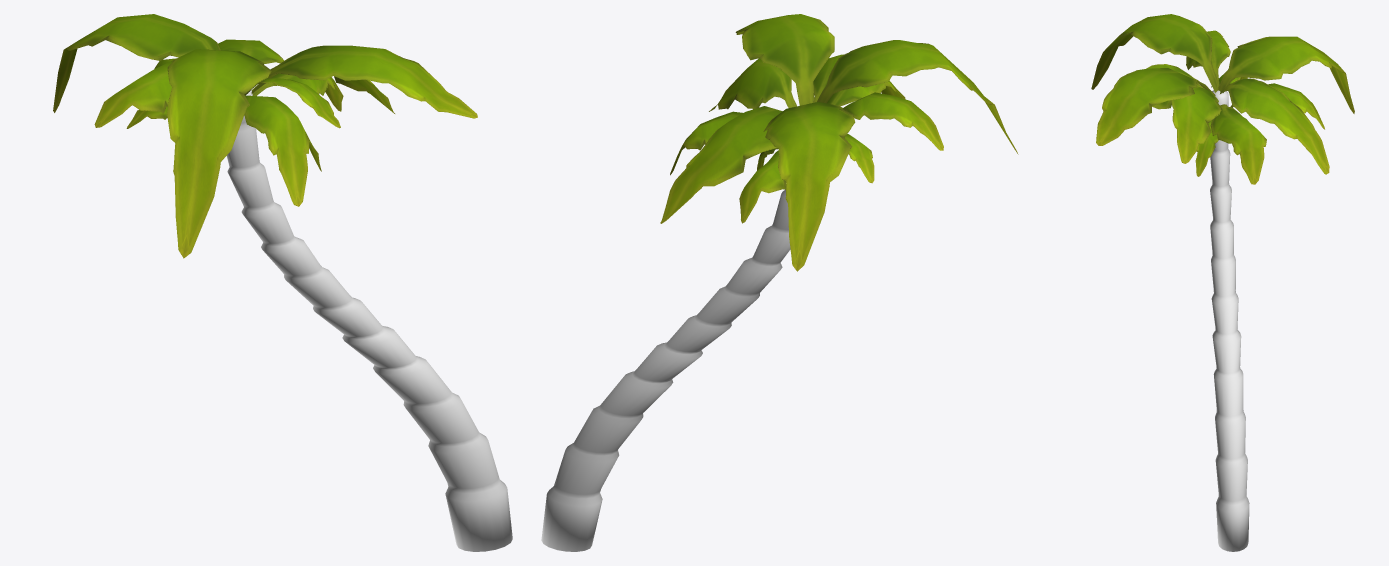
The model's file is Palm3.fbx.
The picture shows the model from 3 angles, left to right: view 1: azimuth 30°, elevation 25°; view 2: azimuth 150°, elevation 25°; view 3: azimuth 270°, elevation 25°; orthographic projection. The views are drawn at different scales.
Visible parts, largest first — view 1: Palm3_LOD0; view 2: Palm3_LOD0; view 3: Palm3_LOD0.
Boxes of the visible parts, x1,y1,x2,y2 form: Palm3_LOD0: (53,14,512,551); Palm3_LOD0: (541,14,1018,551); Palm3_LOD0: (1091,14,1354,551).
Size of what is drawn, in the model's own units: 437 by 545 by 374.
